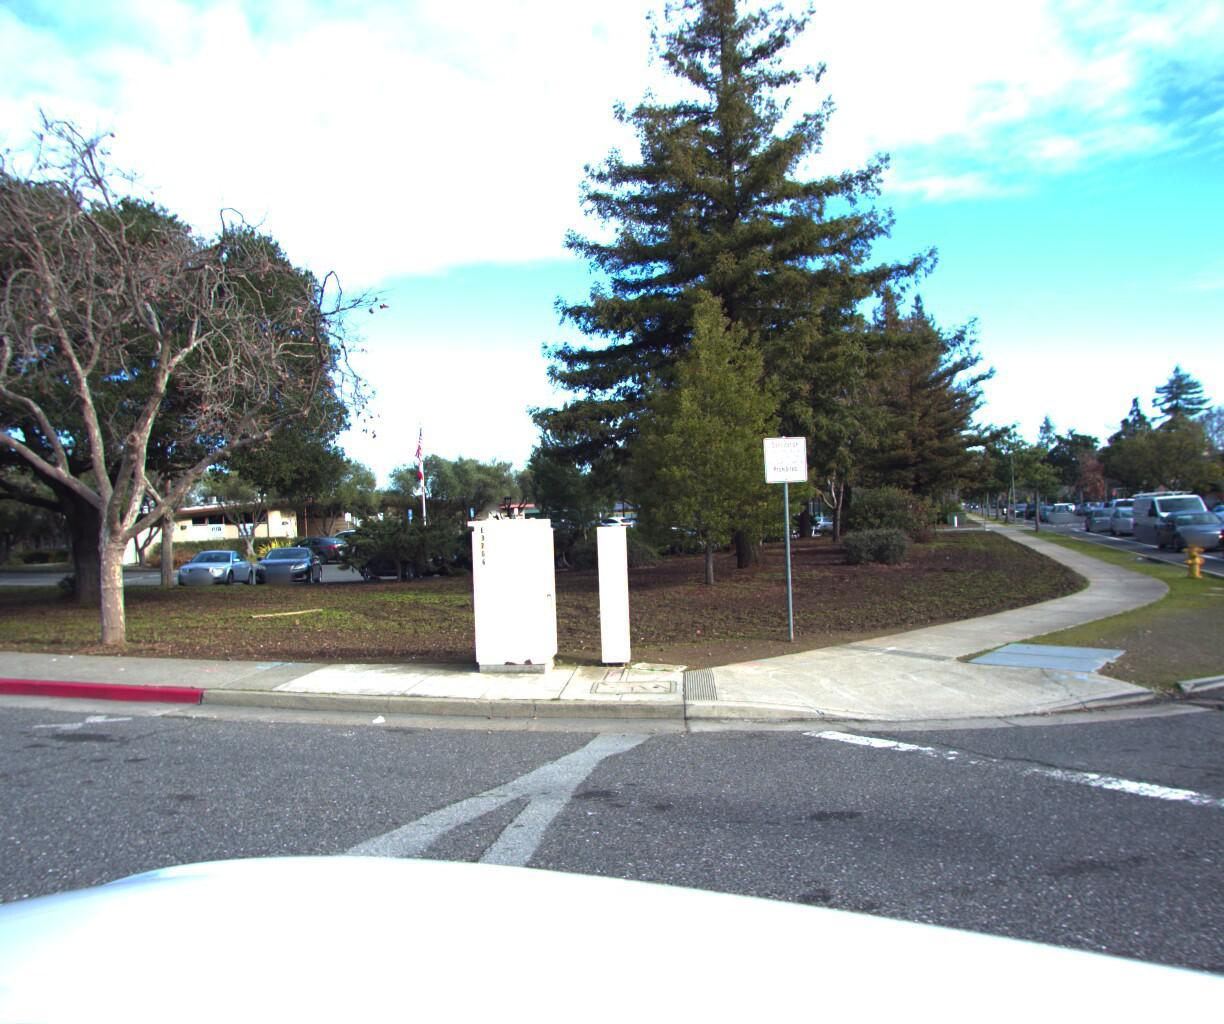car: (1126, 481, 1220, 541), (1147, 504, 1224, 552), (1104, 498, 1162, 532), (1077, 502, 1128, 528), (1207, 503, 1224, 567), (1198, 494, 1224, 523), (1045, 494, 1073, 519)
